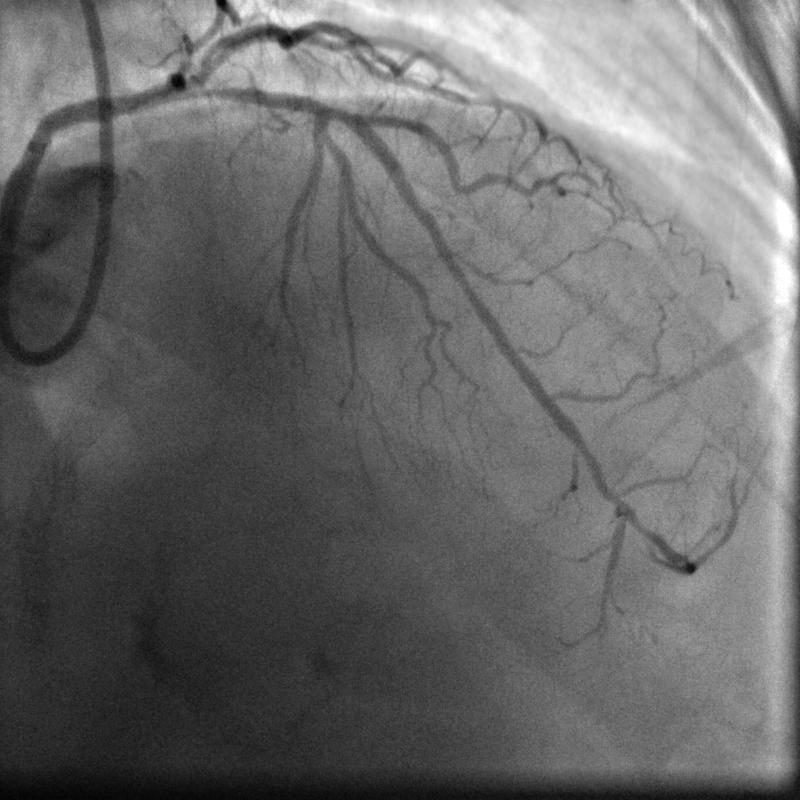Stenosis: (177, 81, 236, 106)
